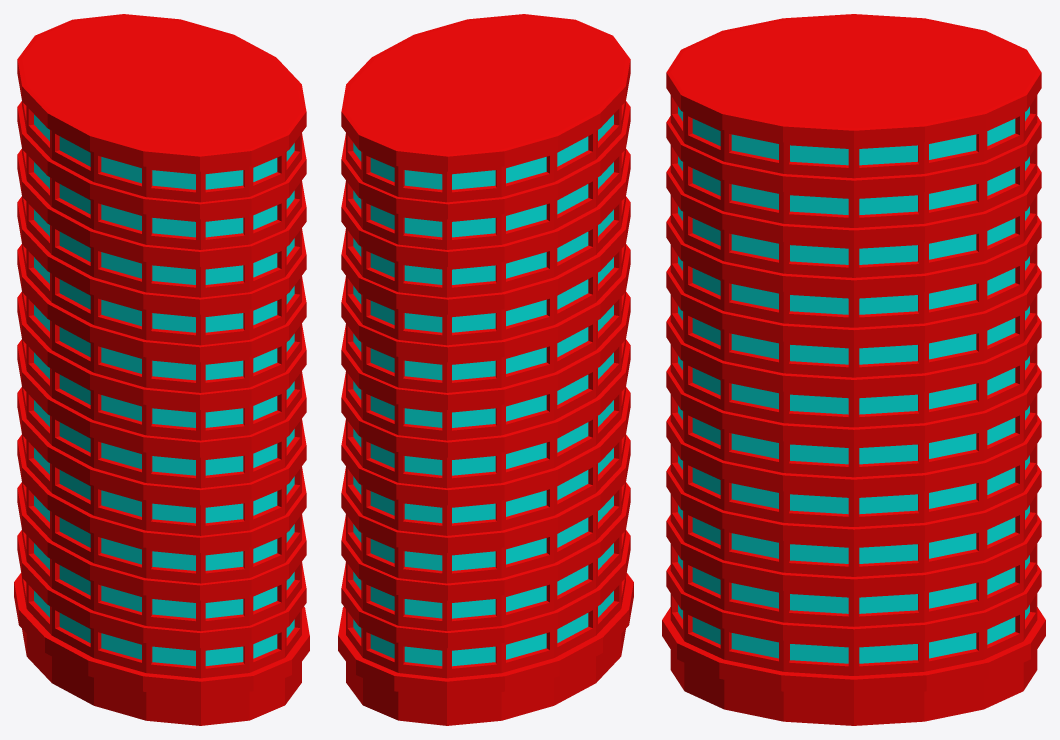
Rendered from predioOval.fbx.
The picture shows the model from 3 angles, left to right: view 1: azimuth 30°, elevation 25°; view 2: azimuth 150°, elevation 25°; view 3: azimuth 270°, elevation 25°; orthographic projection. The views are drawn at different scales.
Visible parts, largest first — view 1: Circle.001, Circle; view 2: Circle.001, Circle; view 3: Circle.001, Circle.
Boxes of the visible parts, x1,y1,x2,y2 form: Circle.001: (17, 14, 306, 678); Circle: (14, 573, 309, 725); Circle.001: (341, 14, 630, 678); Circle: (338, 573, 633, 725); Circle.001: (666, 14, 1041, 675); Circle: (662, 607, 1045, 725).
Bounding box in the file's own units: 305 × 710 × 413.
